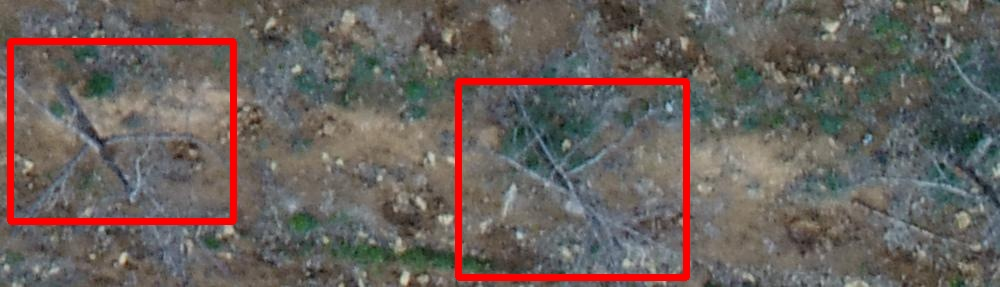apple: (458, 81, 686, 277), (10, 41, 233, 221)
